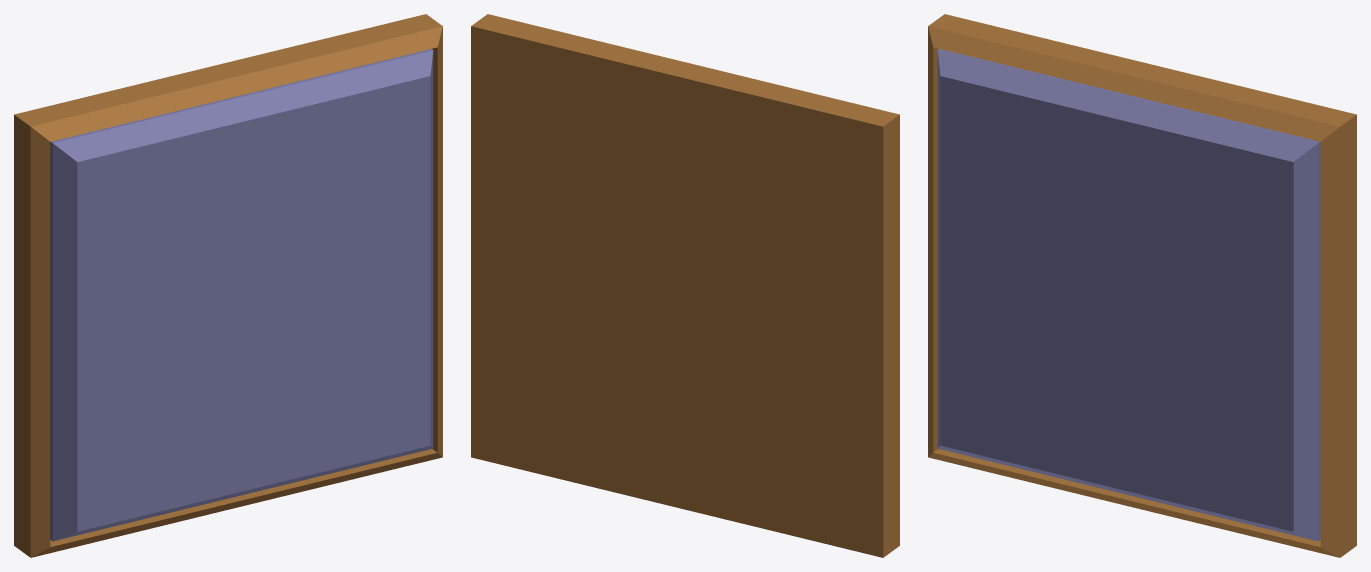
The model's file is interruptot 1.fbx.
The picture shows the model from 3 angles, left to right: view 1: azimuth 30°, elevation 25°; view 2: azimuth 150°, elevation 25°; view 3: azimuth 330°, elevation 25°; orthographic projection.
Visible parts, largest first — view 1: polySurface2, polySurface3; view 2: polySurface3; view 3: polySurface2, polySurface3.
Boxes of the visible parts, x1,y1,x2,y2 form: polySurface2: (50, 49, 433, 541); polySurface3: (14, 14, 442, 557); polySurface3: (471, 14, 899, 557); polySurface2: (937, 49, 1320, 541); polySurface3: (928, 14, 1356, 557).
Size of the model in its own units: 10 by 10 by 1.42.
